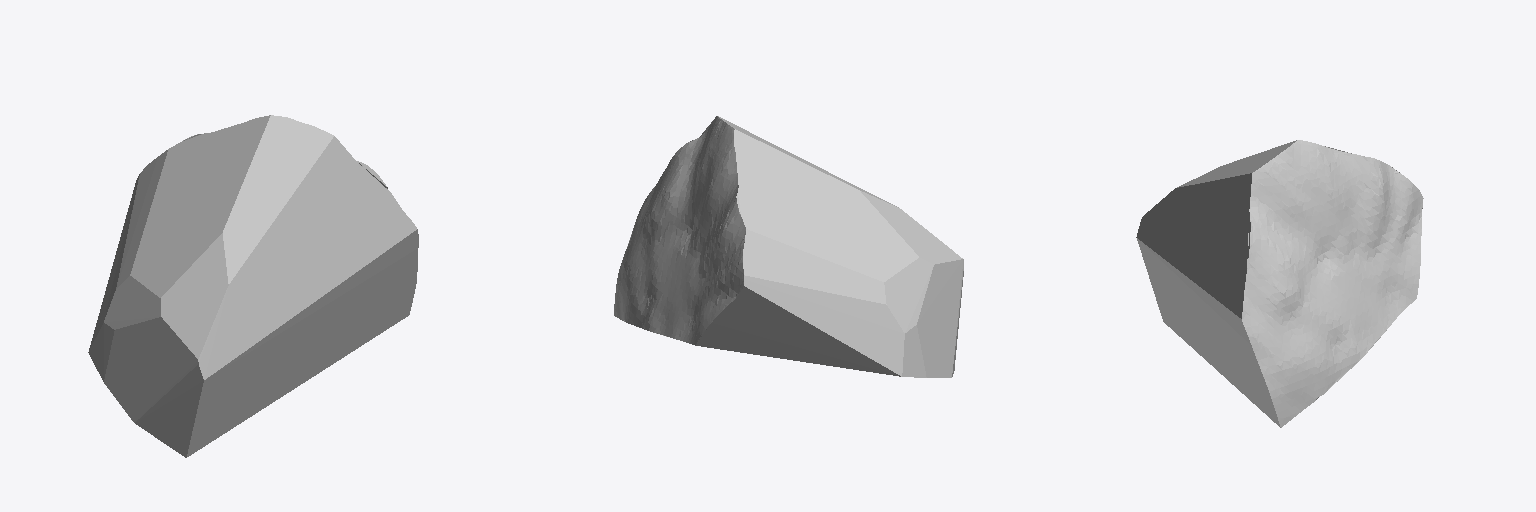
The model's file is low_cell_096.obj.
3 views of the same model, side by side, from view 1: azimuth 30°, elevation 25°; view 2: azimuth 150°, elevation 25°; view 3: azimuth 270°, elevation 25° (orthographic).
Parts seen in each view (by area): view 1: low_cell.096_low_cell.095; view 2: low_cell.096_low_cell.095; view 3: low_cell.096_low_cell.095.
Boxes of the visible parts, x1,y1,x2,y2 form: low_cell.096_low_cell.095: [88, 115, 418, 457]; low_cell.096_low_cell.095: [614, 116, 963, 377]; low_cell.096_low_cell.095: [1136, 140, 1423, 427].
Size of the model in its own units: 0.8919 by 0.7026 by 0.7131.